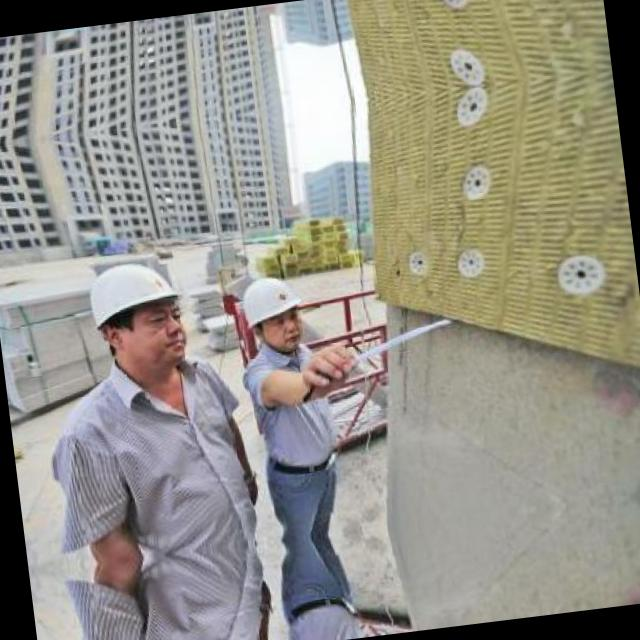helmet: (68, 242, 202, 391), (235, 267, 307, 354)
